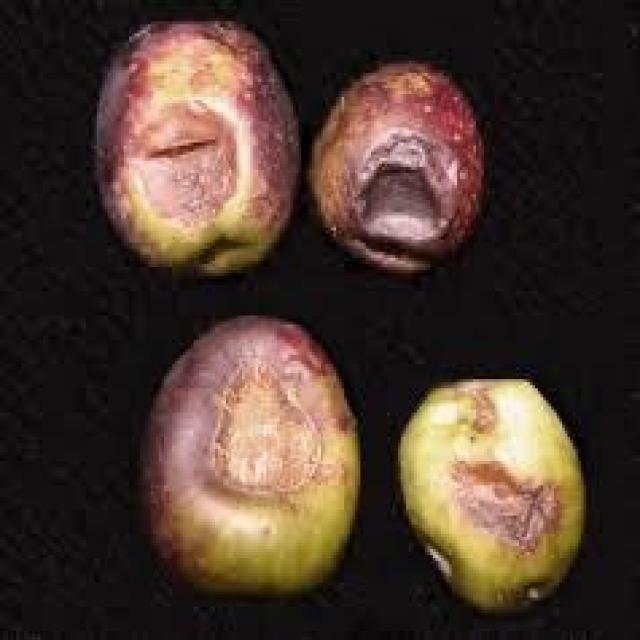Olive Fruit Fly: (140, 315, 358, 591), (97, 24, 298, 273), (401, 382, 581, 610), (309, 64, 481, 273)
